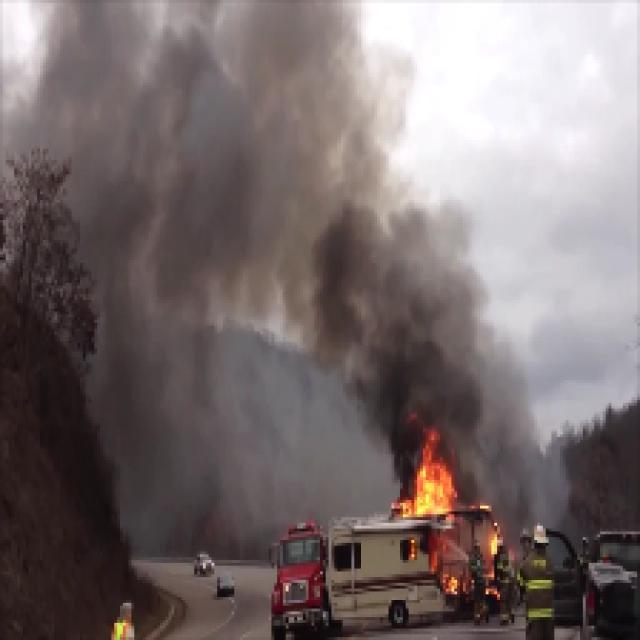Fire: (404, 450, 464, 522)
Smoke: (64, 4, 404, 328), (333, 330, 526, 442)
